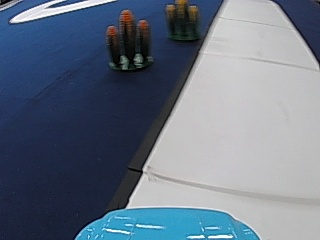corn: (105, 7, 153, 73), (165, 0, 201, 42)
